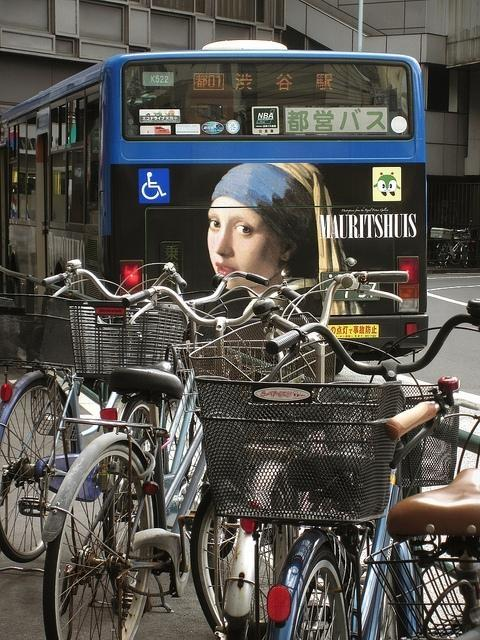bicycle: (30, 281, 296, 632), (197, 260, 409, 640), (263, 294, 480, 633), (362, 375, 480, 640), (2, 270, 109, 561), (44, 260, 186, 388)
bus: (0, 41, 428, 352)
